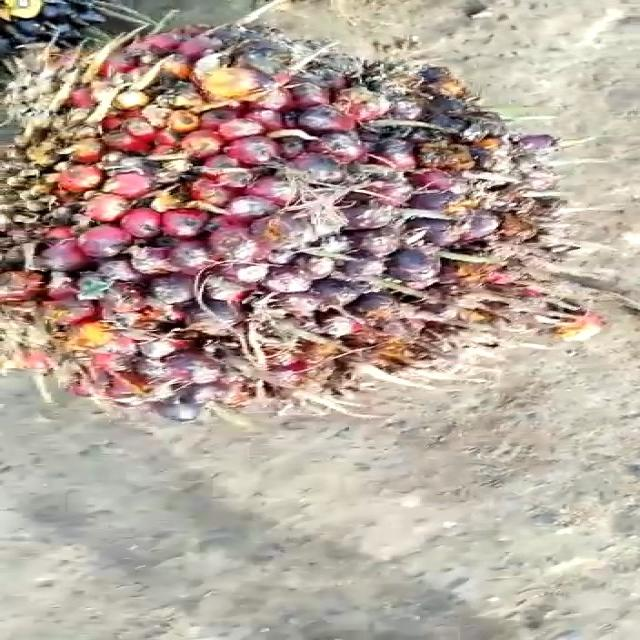palm oil: (12, 27, 602, 406)
